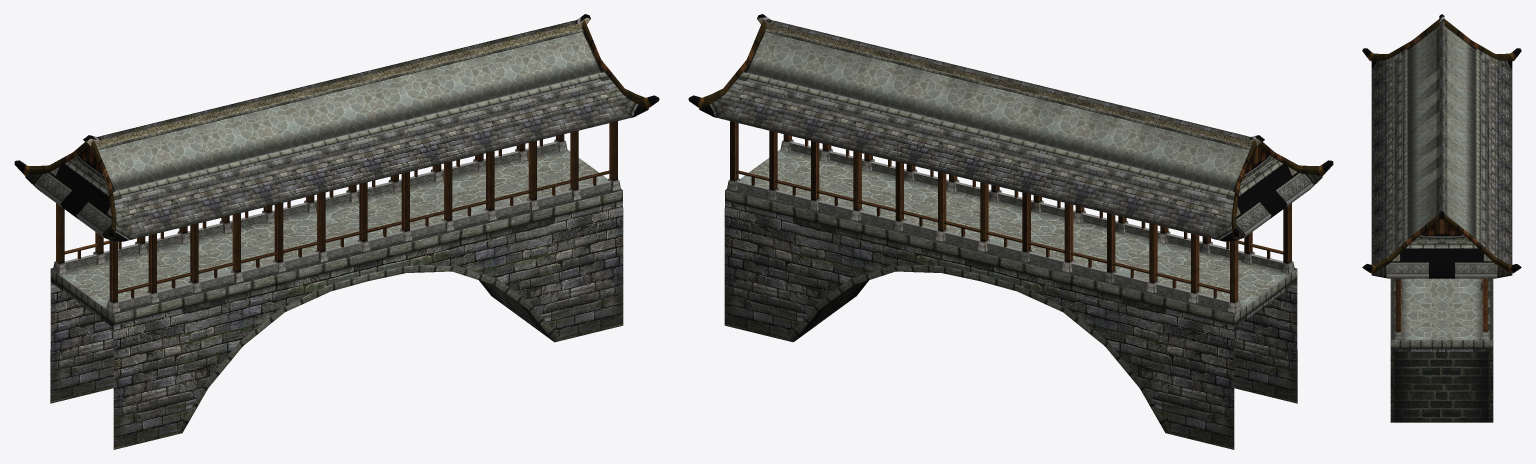
The model's file is pier.glb.
The picture shows the model from 3 angles, left to right: view 1: azimuth 30°, elevation 25°; view 2: azimuth 150°, elevation 25°; view 3: azimuth 270°, elevation 25°; orthographic projection. The views are drawn at different scales.
Visible parts, largest first — view 1: B-general_Wbridge01, B-general_Wbridge02.001; view 2: B-general_Wbridge01, B-general_Wbridge02.001; view 3: B-general_Wbridge02.001, B-general_Wbridge01.
Boxes of the visible parts, x1,y1,x2,y2 form: B-general_Wbridge01: (50,121,623,449); B-general_Wbridge02.001: (14,14,659,241); B-general_Wbridge01: (724,121,1297,449); B-general_Wbridge02.001: (688,14,1333,241); B-general_Wbridge02.001: (1362,14,1521,278); B-general_Wbridge01: (1390,278,1493,422).
Bounding box in the file's own units: 4260 × 2145 × 1314.
1 material, 1 textured.
